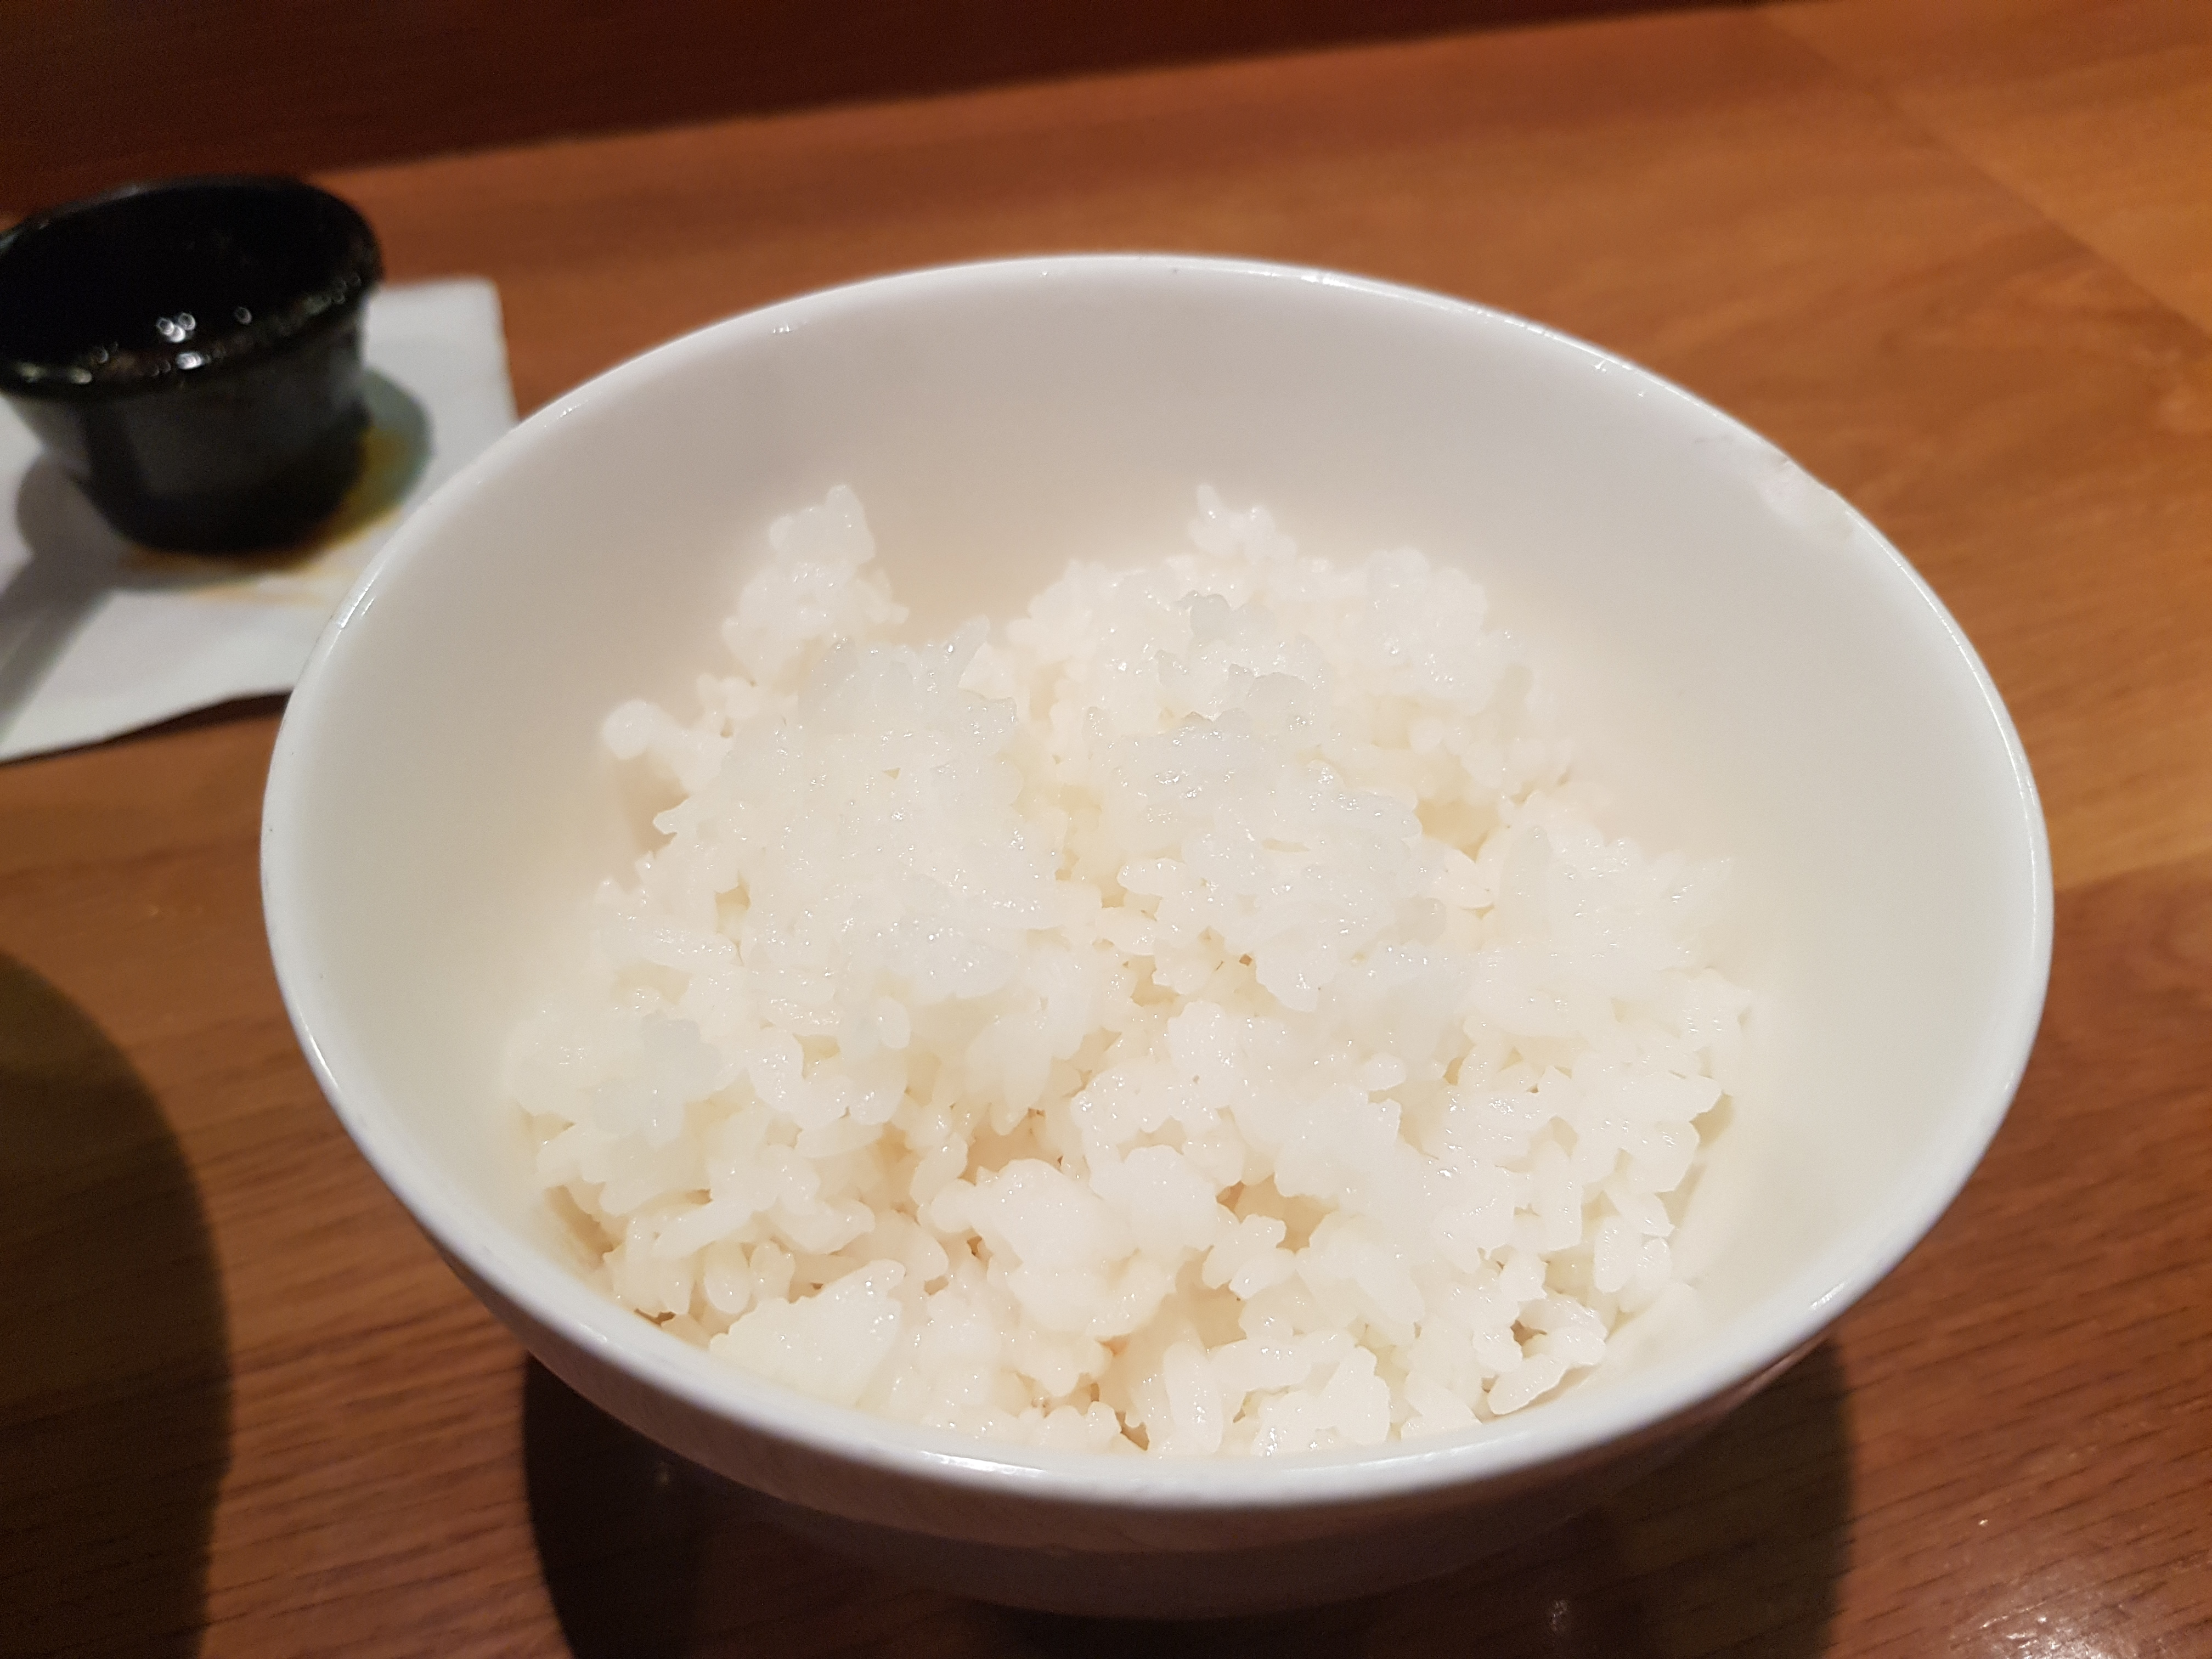plain rice: (672, 505, 1818, 1354)
